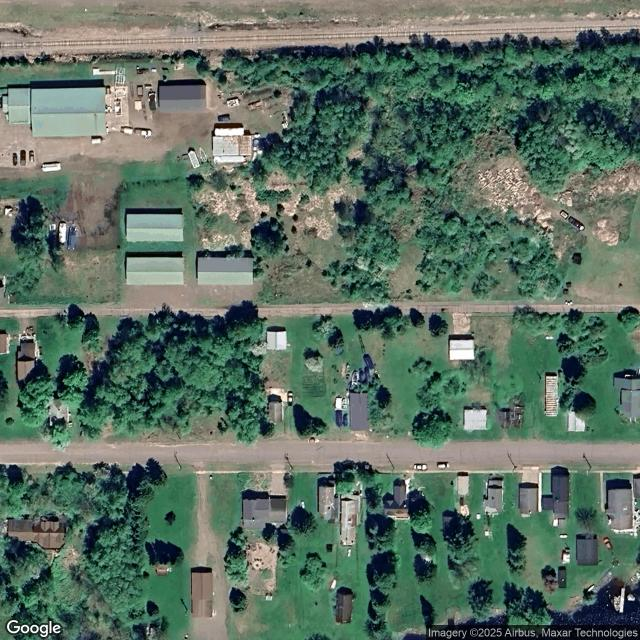Propane: (347, 549, 352, 557), (545, 336, 554, 340), (301, 501, 305, 509), (559, 535, 568, 538)
